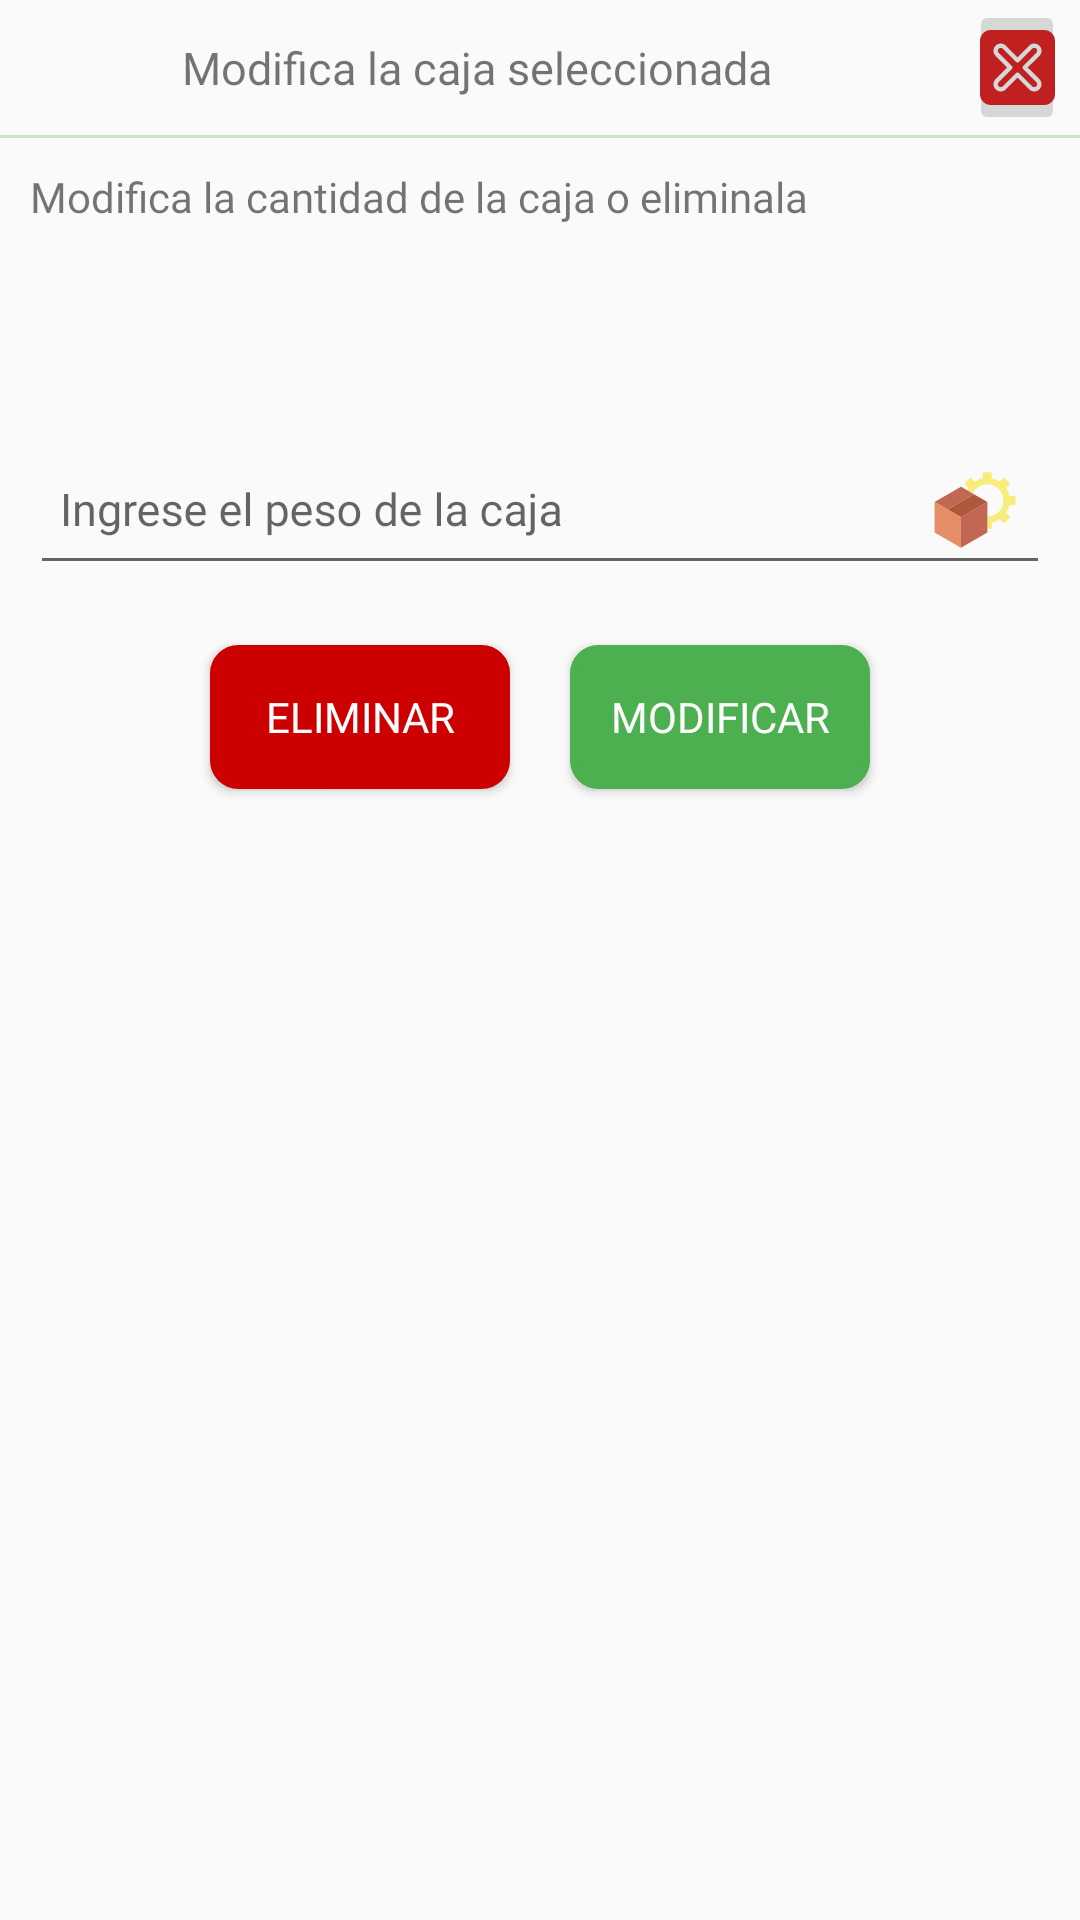

Icon bounding boxes for this 1080×1920 phone screenshot, format (x1, y1, x2, y2):
cerrar: (980, 18, 1055, 117)
